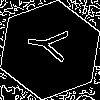Y: (25, 25, 78, 65)
